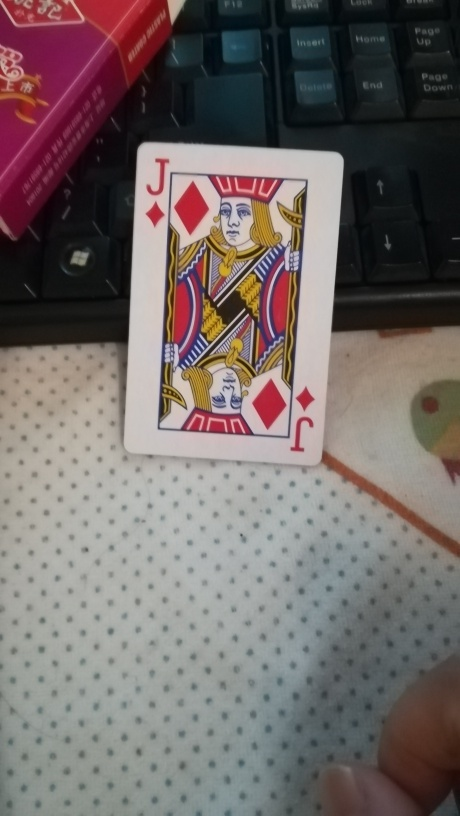fk j: (122, 140, 345, 476)
